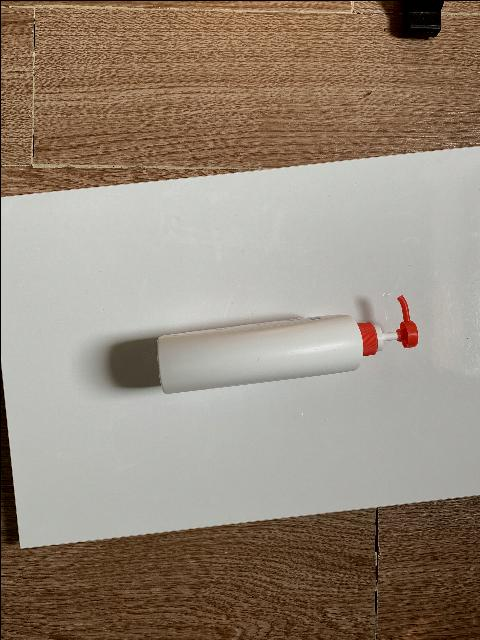life-buoy: (155, 293, 418, 393)
